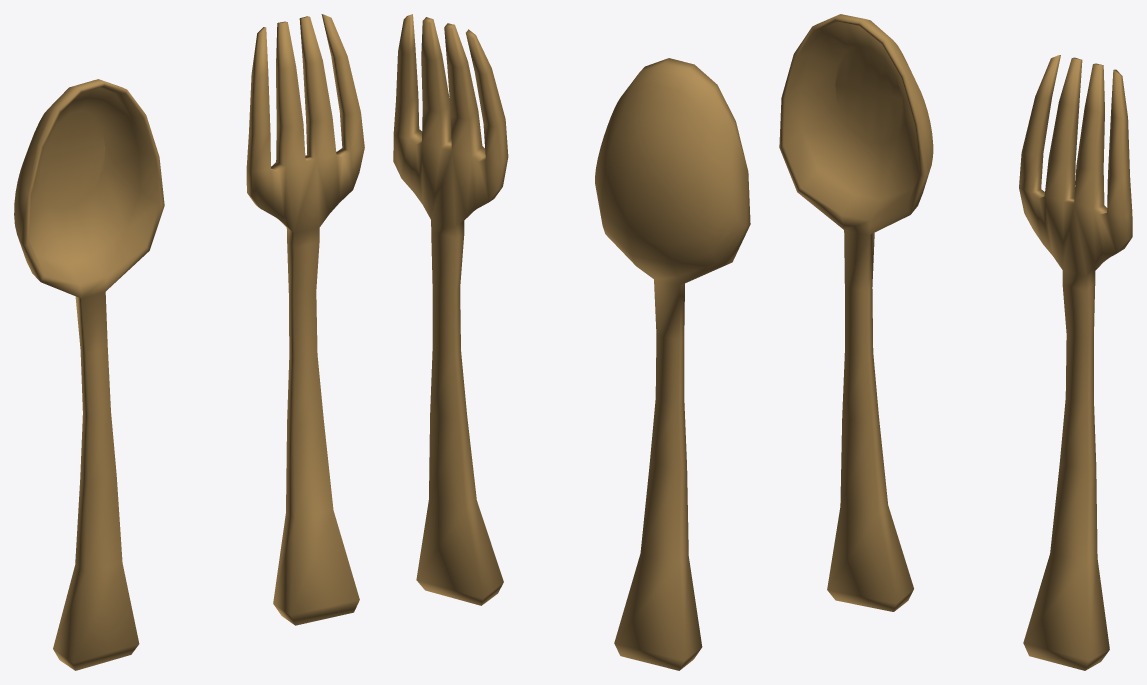
The model's file is SPOON&FORK_02.FBX.
The picture shows the model from 3 angles, left to right: view 1: azimuth 30°, elevation 25°; view 2: azimuth 150°, elevation 25°; view 3: azimuth 330°, elevation 25°; orthographic projection.
Parts seen in each view (by area): view 1: Sphere001, Object001; view 2: Sphere001, Object001; view 3: Sphere001, Object001.
Part boxes in pixels (left/top/right/bottom): Sphere001: left=14, top=79, right=164, bottom=670; Object001: left=246, top=14, right=364, bottom=625; Sphere001: left=595, top=58, right=750, bottom=670; Object001: left=393, top=14, right=508, bottom=605; Sphere001: left=779, top=14, right=933, bottom=611; Object001: left=1019, top=55, right=1132, bottom=670.
Size of the model in its own units: 72.96 by 119 by 17.17.
